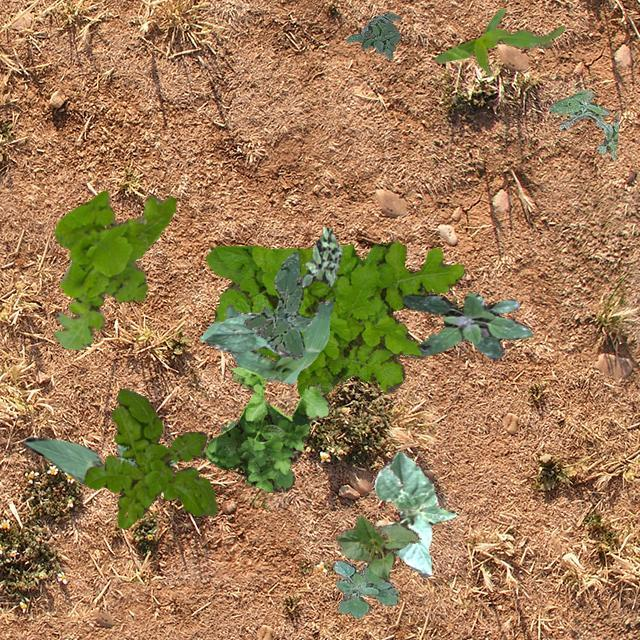crop: (372, 451, 456, 576), (225, 298, 332, 384), (434, 6, 564, 74), (24, 437, 174, 482), (335, 514, 419, 580), (198, 312, 310, 356), (220, 421, 236, 431)
weed: (204, 240, 463, 396), (52, 190, 175, 348), (82, 388, 216, 528), (200, 366, 328, 492), (400, 292, 530, 358), (242, 250, 304, 358), (548, 90, 618, 160), (332, 558, 396, 616), (298, 225, 340, 288), (344, 12, 400, 58)
